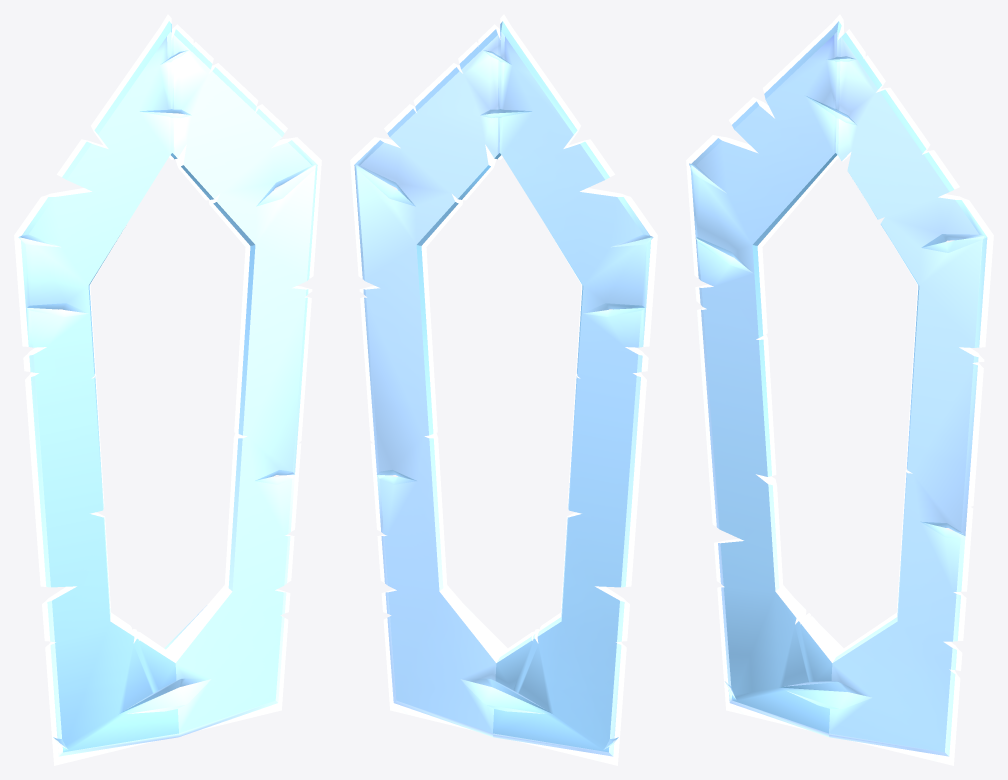
The model's file is steel_blade_scratched_046.glb.
3 renders of one model, left to right at view 1: azimuth 30°, elevation 25°; view 2: azimuth 150°, elevation 25°; view 3: azimuth 330°, elevation 25°, orthographic.
Parts seen in each view (by area): view 1: steel_blade_scratched.046; view 2: steel_blade_scratched.046; view 3: steel_blade_scratched.046.
Part boxes in pixels (x1,y1,x2,y2): steel_blade_scratched.046: [14, 14, 321, 765]; steel_blade_scratched.046: [350, 14, 657, 765]; steel_blade_scratched.046: [686, 14, 993, 765].
Size of the model in its own units: 5.08 by 11.42 by 0.6326.
1 material, 1 textured.
